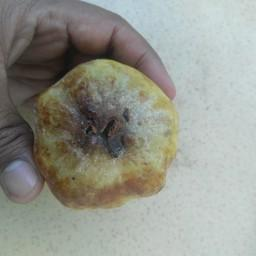Bad_guava: (27, 52, 178, 208)
